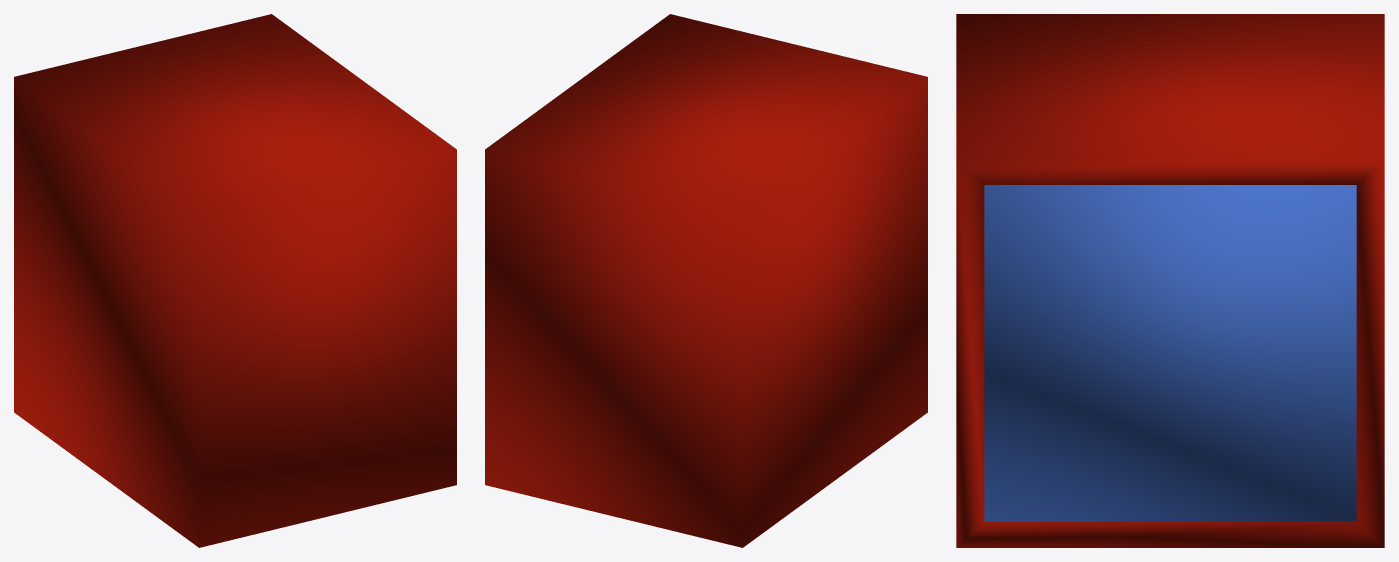
File: emergencyBox.fbx
3 renders of one model, left to right at view 1: azimuth 30°, elevation 25°; view 2: azimuth 150°, elevation 25°; view 3: azimuth 270°, elevation 25°, orthographic. The views are drawn at different scales.
Parts seen in each view (by area): view 1: Cube; view 2: Cube; view 3: glass, Cube.
Boxes of the visible parts, bbox=[...] form: Cube: bbox=[14, 14, 456, 547]; Cube: bbox=[485, 14, 927, 547]; glass: bbox=[984, 185, 1356, 521]; Cube: bbox=[956, 14, 1384, 547].
Size of the model in its own units: 80.49 by 100 by 100.
